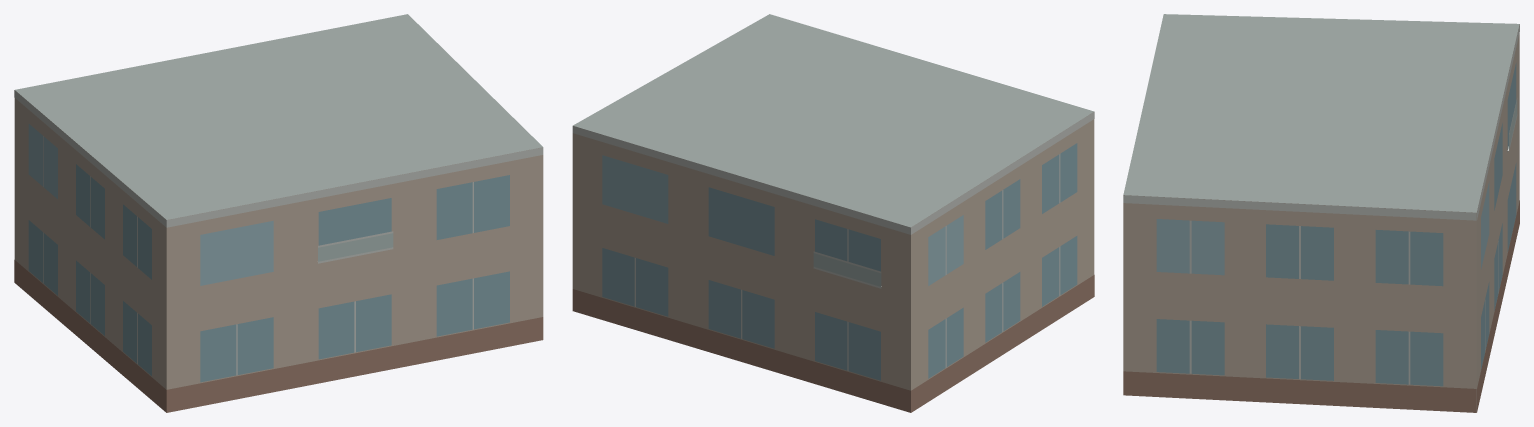
The model's file is survey-upis-32657982.glb.
3 renders of one model, left to right at view 1: azimuth 30°, elevation 25°; view 2: azimuth 150°, elevation 25°; view 3: azimuth 270°, elevation 25°, orthographic. The views are drawn at different scales.
Visible parts, largest first — view 1: survey-upis-32657982.tmp; view 2: survey-upis-32657982.tmp; view 3: survey-upis-32657982.tmp.
Part boxes in pixels (box(x1,y1,x2,y2)): survey-upis-32657982.tmp: box(14, 14, 543, 412); survey-upis-32657982.tmp: box(572, 14, 1094, 412); survey-upis-32657982.tmp: box(1123, 14, 1519, 412).
Bounding box in the file's own units: 12.99 × 6.1 × 10.96.
